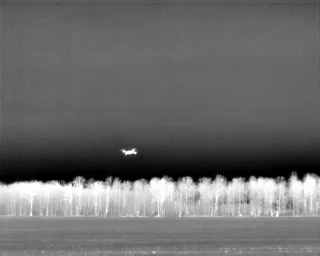DRONE: (117, 143, 143, 162)
